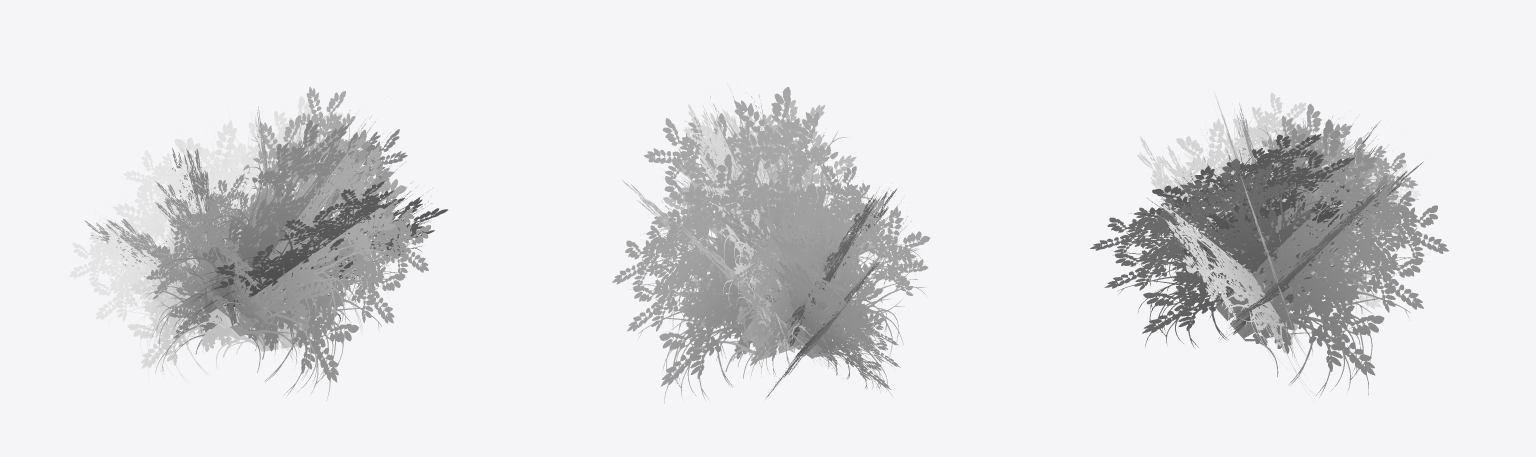
The model's file is Bush.fbx.
3 renders of one model, left to right at view 1: azimuth 30°, elevation 25°; view 2: azimuth 150°, elevation 25°; view 3: azimuth 270°, elevation 25°, orthographic. The views are drawn at different scales.
Parts seen in each view (by area): view 1: Bush; view 2: Bush; view 3: Bush.
Boxes of the visible parts, box(x1,y1,x2,y2) form: Bush: box(69, 87, 447, 400); Bush: box(612, 82, 930, 403); Bush: box(1090, 92, 1448, 402).
Size of the model in its own units: 131 by 116 by 133.
